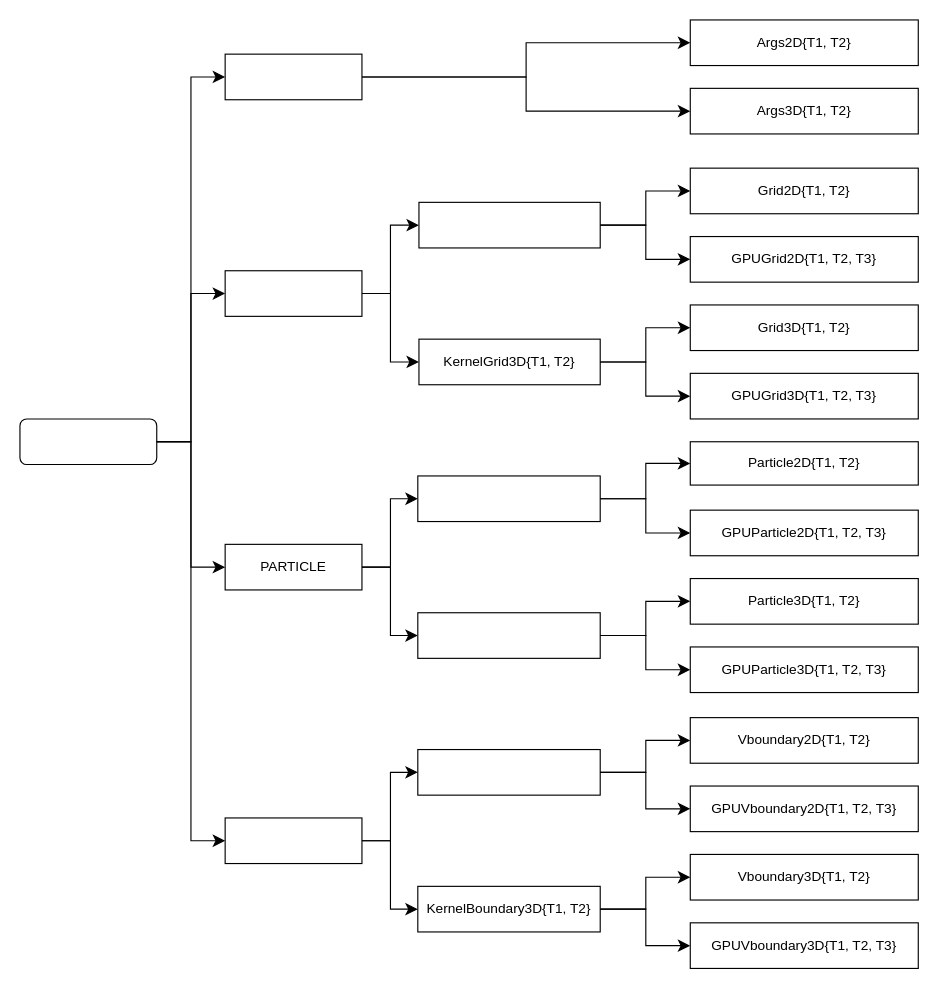
The diagram is 938 pixels wide and 988 high, and some of its shapes have lost their labels. The shapes that lost their labels are listed below. From the top down, each one's centre as x and y in pixels, then its label:
At [293,76]: "ARGS".
At [509,224]: "KernelGrid2D{T1, T2}".
At [293,293]: "GRID".
At [88,441]: "MPMSolver.jl".
At [508,498]: "KernelParticle2D{T1, T2}".
At [508,635]: "KernelParticle3D{T1, T2}".
At [508,771]: "KernelBoundary2D{T1, T2}".
At [293,840]: "BOUNDARY".
